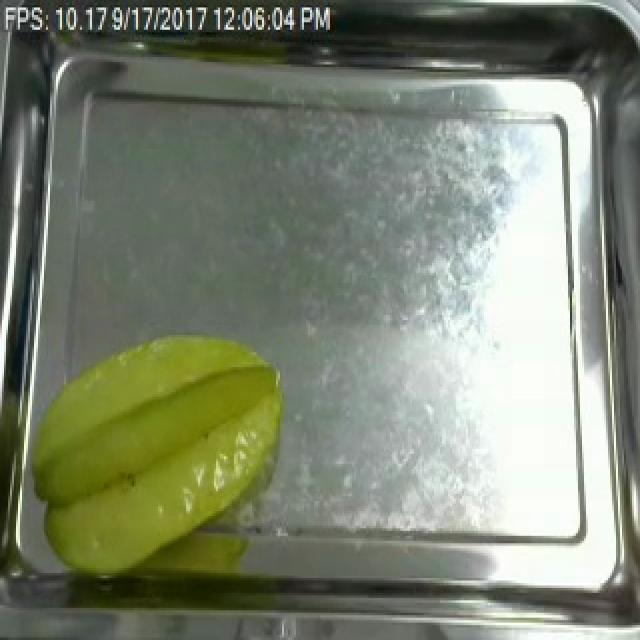fruit: (18, 320, 300, 595)
